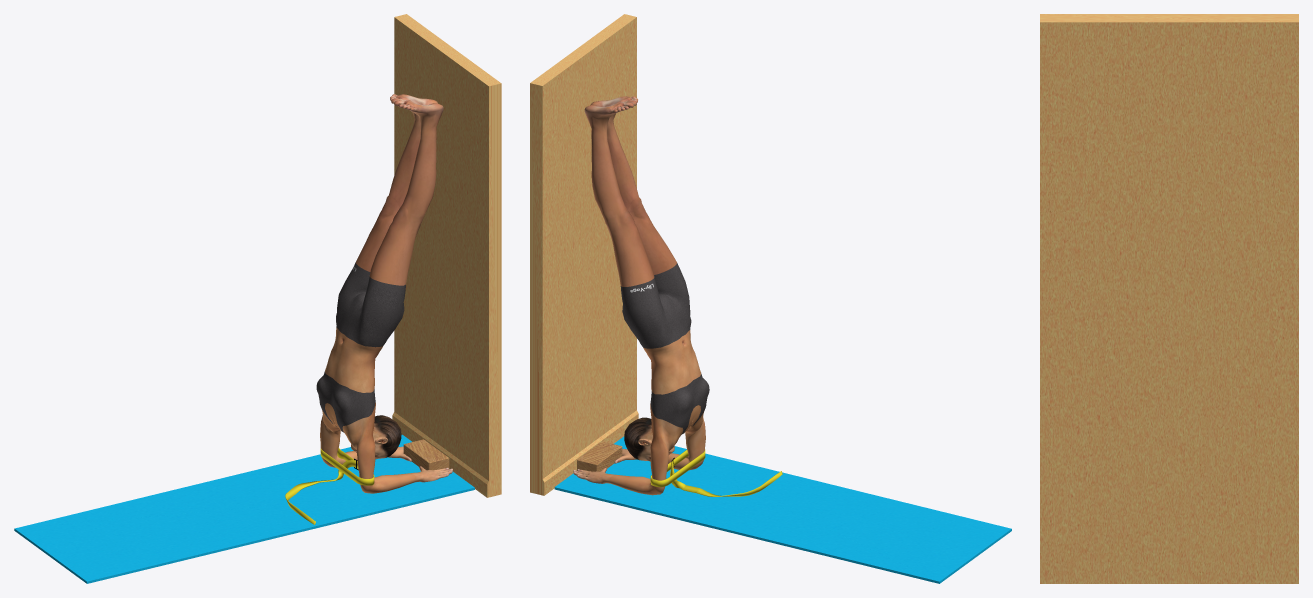
The model's file is pincha_mayurasana.glb.
3 renders of one model, left to right at view 1: azimuth 30°, elevation 25°; view 2: azimuth 150°, elevation 25°; view 3: azimuth 270°, elevation 25°, orthographic. The views are drawn at different scales.
Visible parts, largest first — view 1: Wall_material-material, mat_001-material, FemaleSkin-material, Plinthe_001-material, belt_005-material, wood_001-material; view 2: Wall_material-material, mat_001-material, FemaleSkin-material, Plinthe_001-material, belt_005-material, wood_001-material; view 3: Wall_material-material.
Part boxes in pixels (x1=…): Wall_material-material: x1=394, y1=14, x2=501, y2=497; mat_001-material: x1=14, y1=434, x2=474, y2=583; FemaleSkin-material: x1=316, y1=94, x2=452, y2=493; Plinthe_001-material: x1=392, y1=412, x2=488, y2=497; belt_005-material: x1=285, y1=448, x2=374, y2=524; wood_001-material: x1=403, y1=439, x2=449, y2=470; Wall_material-material: x1=530, y1=14, x2=636, y2=495; mat_001-material: x1=554, y1=436, x2=1011, y2=583; FemaleSkin-material: x1=573, y1=96, x2=709, y2=495; Plinthe_001-material: x1=542, y1=410, x2=638, y2=495; belt_005-material: x1=650, y1=449, x2=782, y2=496; wood_001-material: x1=577, y1=441, x2=622, y2=471; Wall_material-material: x1=1040, y1=14, x2=1298, y2=583.
Bounding box in the file's own units: 6.4 × 6.28 × 2.62.
Materials: 7 (5 with a texture image).
